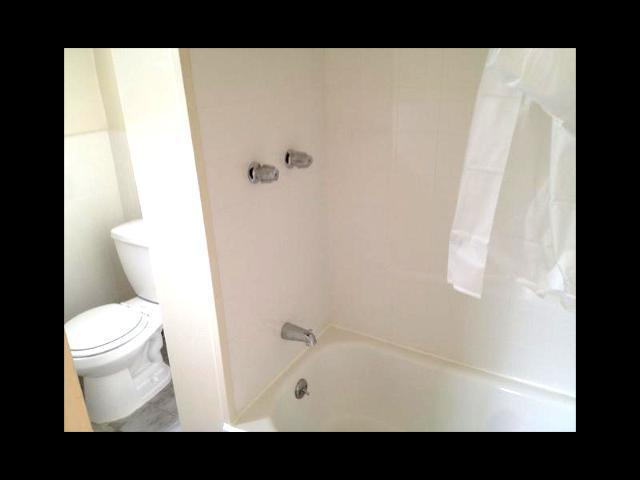Sanitario: (65, 216, 187, 423)
